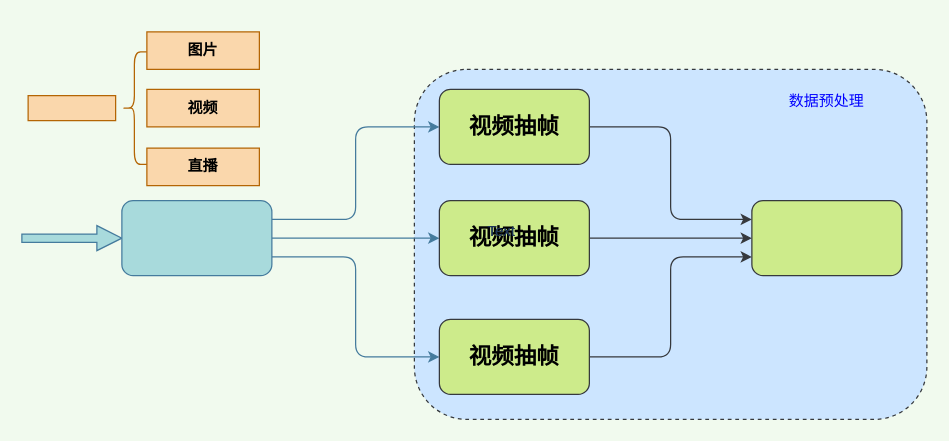
This 949x441 diagram has some shape labels left out. The shapes that lost their labels are listed below. From the top down, each one's box as (x1, y1, x2, y2) in pixels, then its label:
(27, 94, 116, 121): 数据类型
(121, 199, 272, 276): 数据接入
(751, 199, 902, 276): 图片分发
